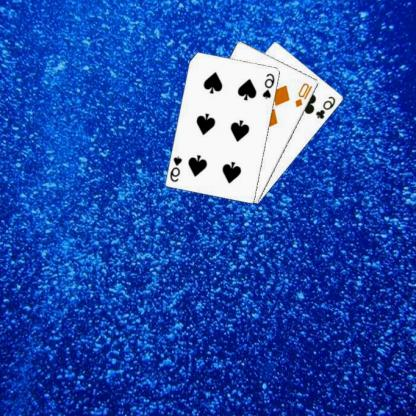10D: (295, 80, 315, 108)
6C: (315, 93, 339, 120)
6S: (170, 153, 186, 183), (262, 71, 278, 100)
